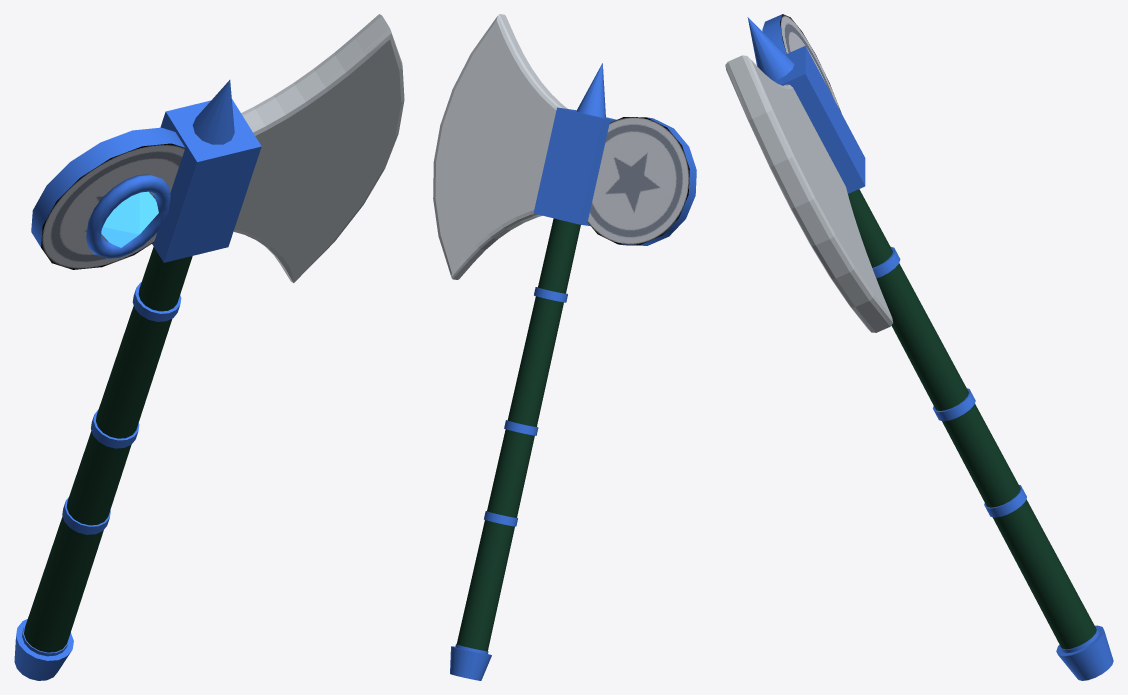
The model's file is hand_eqtz1.glb.
3 renders of one model, left to right at view 1: azimuth 30°, elevation 25°; view 2: azimuth 150°, elevation 25°; view 3: azimuth 270°, elevation 25°, orthographic. The views are drawn at different scales.
Bounding box in the file's own units: 2.27 × 4.7 × 2.41.
Materials: 5 (1 with a texture image).
